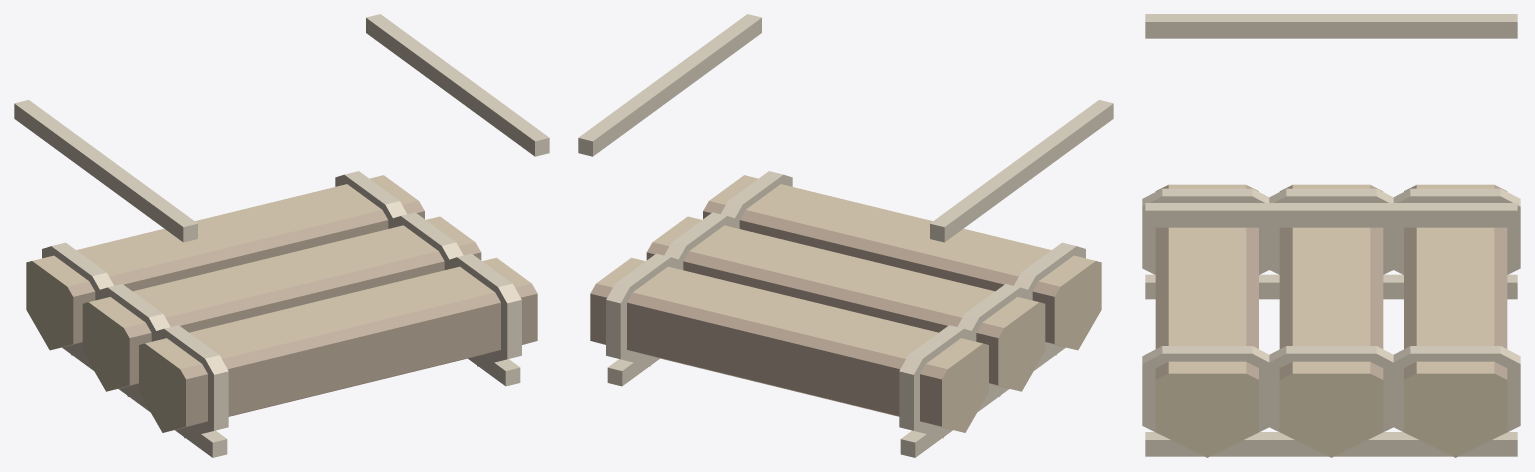
File: Prop_Bridge_Rope_Middle.glb
The picture shows the model from 3 angles, left to right: view 1: azimuth 30°, elevation 25°; view 2: azimuth 150°, elevation 25°; view 3: azimuth 270°, elevation 25°; orthographic projection. The views are drawn at different scales.
Parts seen in each view (by area): view 1: object10, object13, object9, object3, object2, object4, object12, object5, object11, object8, object7, object1 (+1 smaller); view 2: object9, object13, object10, object3, object2, object11, object8, object4, object5, object12, object7, object1 (+1 smaller); view 3: object13, object10, object9, object2, object3, object6, object12, object8, object7, object11, object4, object5 (+1 smaller).
Part boxes in pixels (box(x1,y1,x2,y2)): object10: box(139, 257, 537, 432); object13: box(82, 216, 481, 391); object9: box(26, 175, 424, 350); object3: box(366, 14, 549, 156); object2: box(14, 100, 197, 242); object4: box(155, 325, 228, 438); object12: box(449, 253, 521, 366); object5: box(98, 284, 170, 396); object11: box(42, 242, 113, 355); object8: box(335, 171, 406, 228); object7: box(393, 212, 463, 269); object1: box(62, 345, 227, 457); object9: box(590, 257, 988, 432); object13: box(646, 216, 1045, 391); object10: box(703, 175, 1101, 350); object3: box(578, 14, 761, 156); object2: box(930, 100, 1113, 242); object11: box(899, 325, 972, 438); object8: box(606, 253, 679, 366); object4: box(1014, 242, 1085, 355); object5: box(957, 284, 1027, 396); object12: box(721, 171, 792, 228); object7: box(664, 212, 734, 269); object1: box(900, 346, 1065, 457); object13: box(1279, 184, 1383, 457); object10: box(1155, 184, 1258, 457); object9: box(1404, 184, 1507, 457); object2: box(1145, 14, 1517, 38); object3: box(1145, 203, 1517, 227); object6: box(1145, 432, 1517, 456); object12: box(1142, 346, 1272, 442); object8: box(1390, 346, 1520, 444); object7: box(1266, 346, 1396, 439); object11: box(1390, 188, 1520, 274); object4: box(1142, 188, 1272, 274); object5: box(1266, 188, 1396, 274).
Bounding box in the file's own units: 1.25 × 0.7789 × 1.02.
